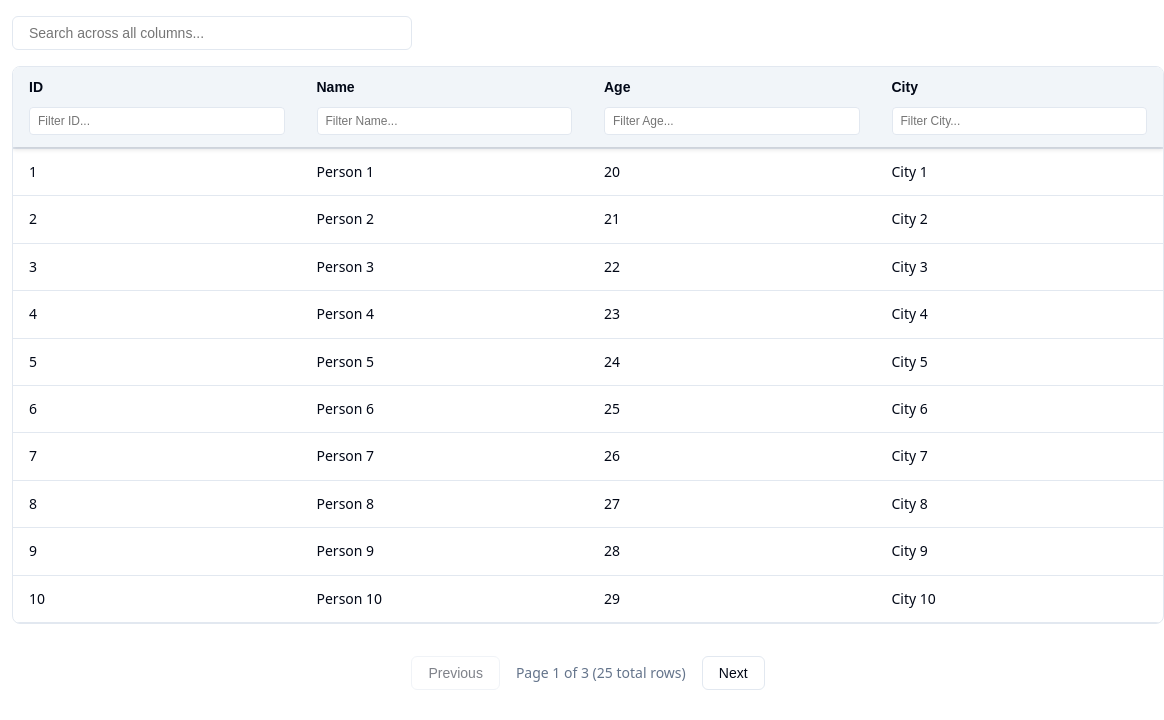
Test: InteractiveTable › Pagination › should navigate to previous page
Go to page 2
Click the button "Next": (733, 673) x1=702 y1=656 x2=765 y2=690
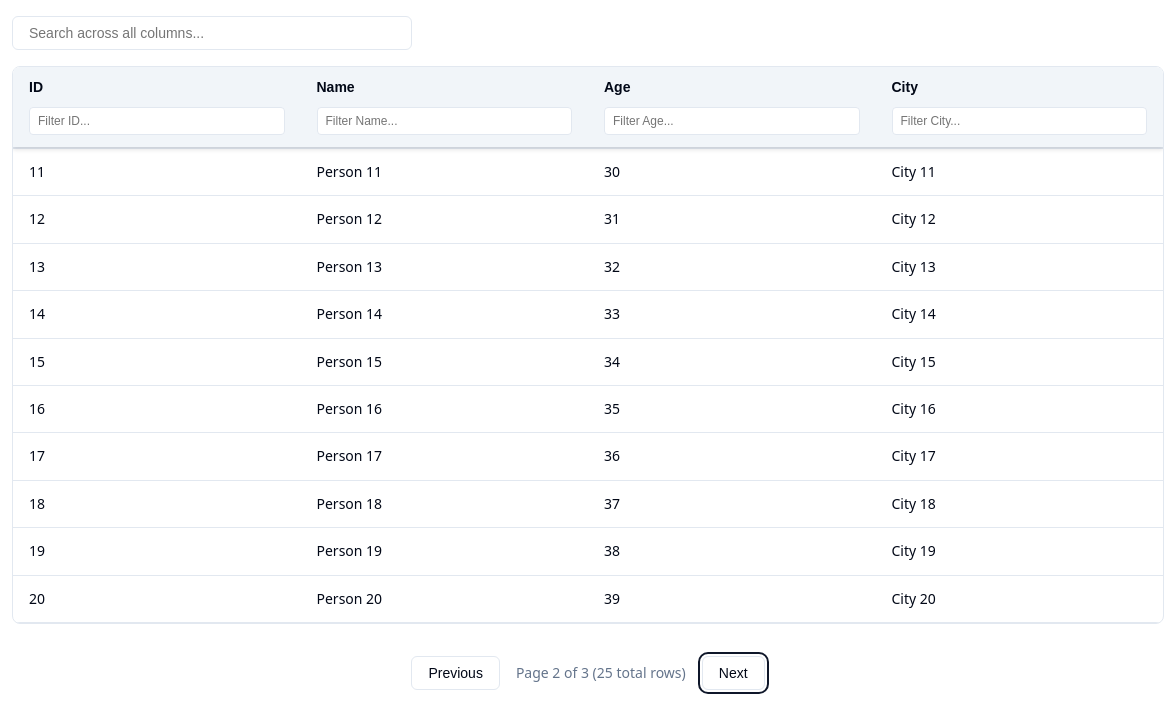
Expected: the text "Person 11" is shown, x1=300 y1=148 x2=588 y2=196
Go back to page 1
Click the button "Previous": (456, 673) x1=411 y1=656 x2=500 y2=690
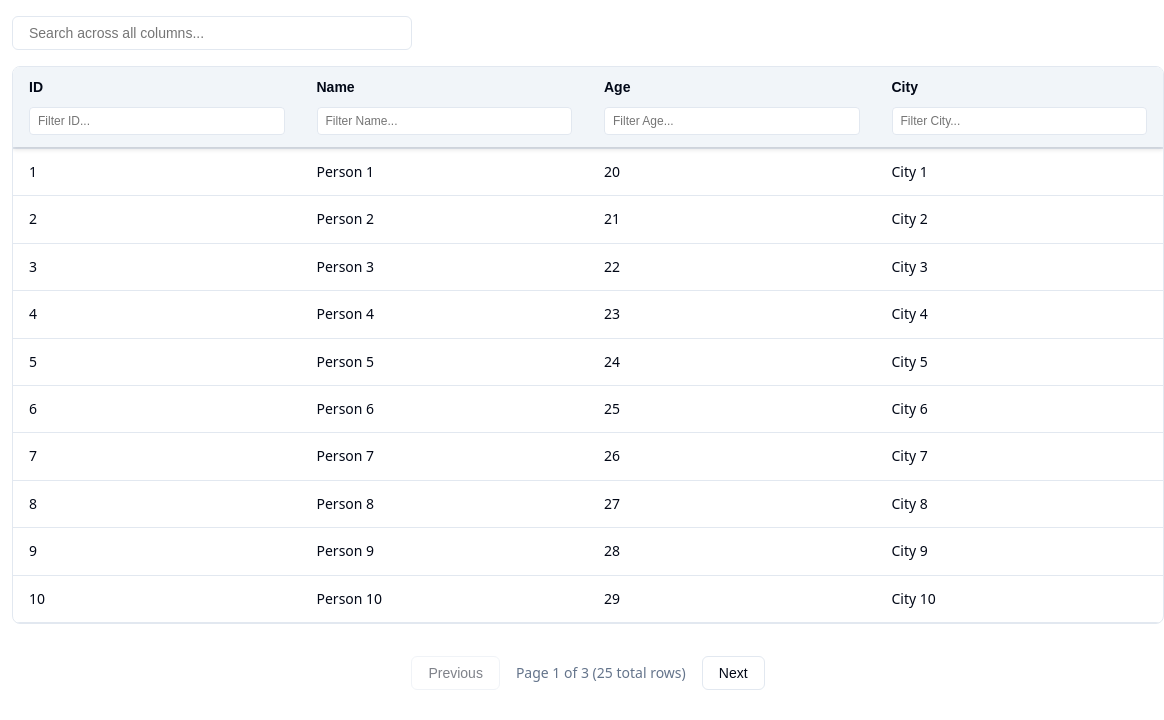
Expected: the text "Person 1" is shown, x1=300 y1=148 x2=588 y2=196
Expected: the text "Person 11" is gone
